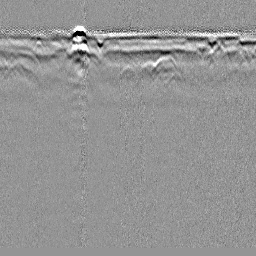cavity: (117, 63, 139, 78)
